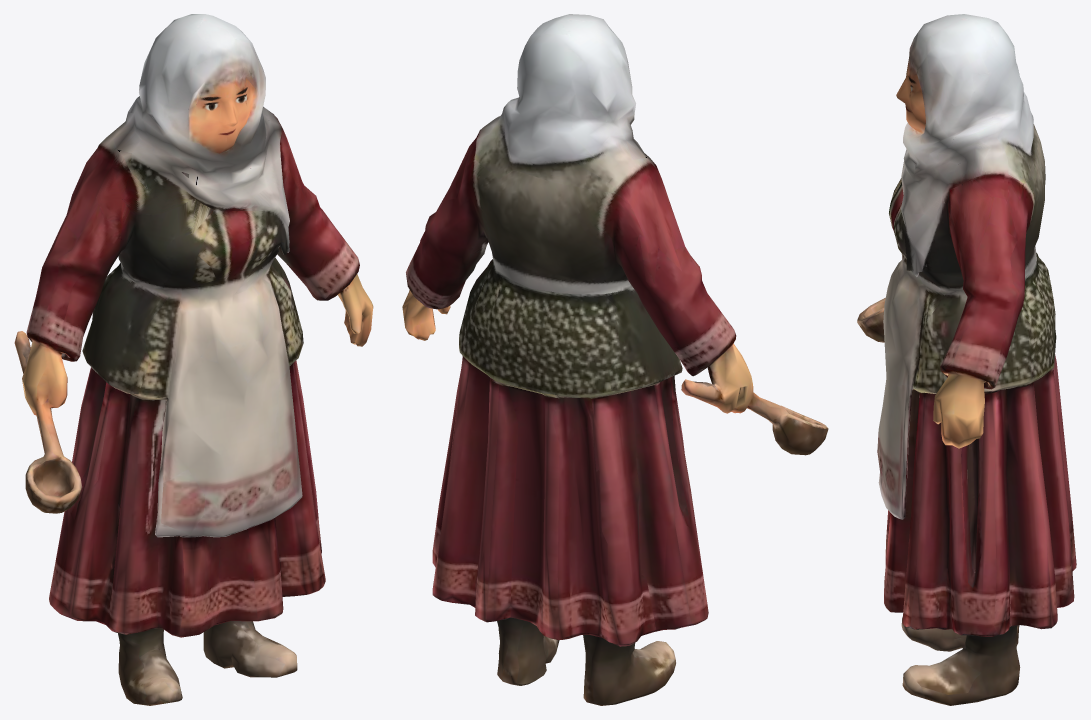
Rendered from cook.gen.glb.
3 views of the same model, side by side, from view 1: azimuth 30°, elevation 25°; view 2: azimuth 150°, elevation 25°; view 3: azimuth 270°, elevation 25° (orthographic).
Visible parts, largest first — view 1: cook.raw; view 2: cook.raw; view 3: cook.raw.
Part boxes in pixels (x1,y1,x2,y2): cook.raw: [14, 14, 373, 705]; cook.raw: [402, 14, 828, 705]; cook.raw: [857, 14, 1076, 705].
Bounding box in the file's own units: 1.06 × 1.75 × 0.5322.
Materials: 1 (1 with a texture image).
